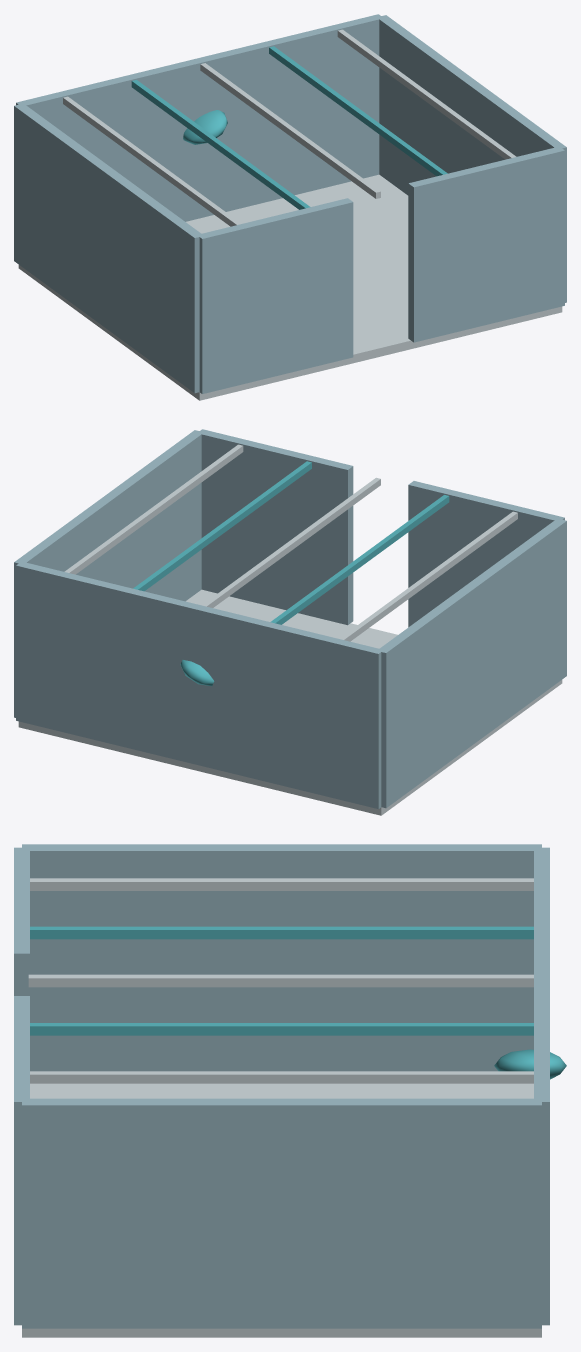
File: snowlight_shrine_main.glb
The picture shows the model from 3 angles, top to bottom: view 1: azimuth 30°, elevation 25°; view 2: azimuth 150°, elevation 25°; view 3: azimuth 270°, elevation 25°; orthographic projection. The views are drawn at different scales.
Visible parts, largest first — view 1: wall_north, wall_west, wall_south_right, wall_south_left, wall_east, floor, ceiling_beam_0, ceiling_beam_-1, ceiling_beam_2, ceiling_beam_-2, ceiling_beam_1, purpose_aurora_shrine; view 2: wall_north, wall_west, wall_south_right, wall_east, wall_south_left, floor, ceiling_beam_-1, ceiling_beam_0, ceiling_beam_2, ceiling_beam_-2, ceiling_beam_1, purpose_aurora_shrine; view 3: wall_east, wall_west, floor, ceiling_beam_0, ceiling_beam_-1, ceiling_beam_-2, ceiling_beam_1, ceiling_beam_2, wall_north, wall_south_right, wall_south_left, purpose_aurora_shrine.
Part boxes in pixels (bbox=[...]): wall_north: bbox=[16, 14, 383, 221]; wall_west: bbox=[14, 103, 203, 393]; wall_south_right: bbox=[408, 146, 564, 342]; wall_south_left: bbox=[198, 198, 353, 393]; wall_east: bbox=[377, 15, 566, 302]; floor: bbox=[18, 174, 562, 400]; ceiling_beam_0: bbox=[200, 63, 380, 198]; ceiling_beam_-1: bbox=[131, 80, 310, 209]; ceiling_beam_2: bbox=[337, 29, 516, 159]; ceiling_beam_-2: bbox=[63, 96, 241, 226]; ceiling_beam_1: bbox=[269, 46, 447, 176]; purpose_aurora_shrine: bbox=[183, 110, 227, 144]; wall_north: bbox=[16, 561, 383, 808]; wall_west: bbox=[378, 518, 566, 808]; wall_south_right: bbox=[198, 429, 353, 625]; wall_east: bbox=[14, 430, 203, 717]; wall_south_left: bbox=[408, 481, 564, 627]; floor: bbox=[18, 589, 562, 815]; ceiling_beam_-1: bbox=[270, 495, 449, 624]; ceiling_beam_0: bbox=[202, 477, 380, 607]; ceiling_beam_2: bbox=[64, 444, 243, 574]; ceiling_beam_-2: bbox=[339, 511, 517, 641]; ceiling_beam_1: bbox=[133, 461, 311, 591]; purpose_aurora_shrine: bbox=[180, 660, 214, 686]; wall_east: bbox=[22, 1098, 541, 1328]; wall_west: bbox=[22, 844, 541, 1071]; floor: bbox=[22, 1083, 541, 1337]; ceiling_beam_0: bbox=[28, 974, 533, 987]; ceiling_beam_-1: bbox=[30, 926, 533, 939]; ceiling_beam_-2: bbox=[30, 878, 533, 890]; ceiling_beam_1: bbox=[30, 1023, 533, 1035]; ceiling_beam_2: bbox=[30, 1071, 533, 1083]; wall_north: bbox=[534, 847, 549, 1325]; wall_south_right: bbox=[14, 996, 29, 1325]; wall_south_left: bbox=[14, 847, 29, 995]; purpose_aurora_shrine: bbox=[494, 1049, 566, 1079].
Size of what is drawn, in the model's own units: 13.55 by 5.7 by 12.13.
